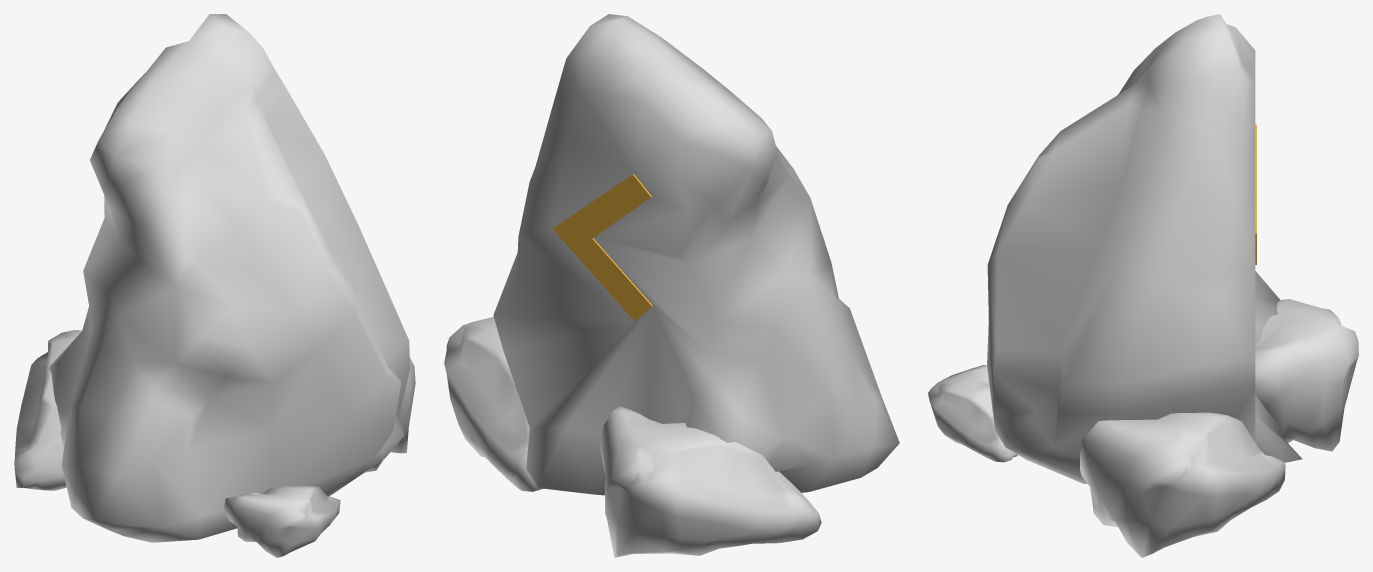
The model's file is Kaunan.fbx.
3 renders of one model, left to right at view 1: azimuth 30°, elevation 25°; view 2: azimuth 150°, elevation 25°; view 3: azimuth 270°, elevation 25°, orthographic. The views are drawn at different scales.
Parts seen in each view (by area): view 1: stone; view 2: stone, Kaunan; view 3: stone.
Part boxes in pixels (x1,y1,x2,y2): stone: (14,14,415,557); stone: (444,14,899,557); Kaunan: (552,174,652,321); stone: (928,14,1358,557).
Size of the model in its own units: 155 by 181 by 152.
